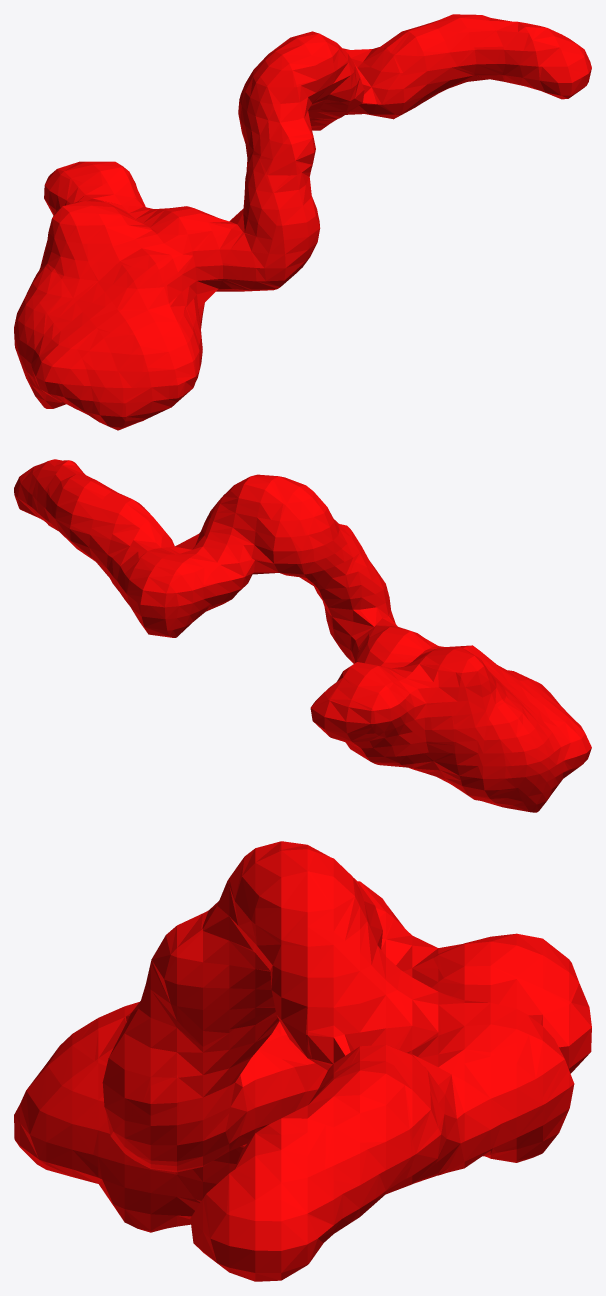
The model's file is paaB_coarse.dae.
3 views of the same model, one above another, from view 1: azimuth 30°, elevation 25°; view 2: azimuth 150°, elevation 25°; view 3: azimuth 270°, elevation 25° (orthographic). The views are drawn at different scales.
Visible parts, largest first — view 1: paaB; view 2: paaB; view 3: paaB.
Part boxes in pixels (x1,y1,x2,y2): paaB: (14,14,591,430); paaB: (14,459,591,812); paaB: (14,841,591,1281).
Size of the model in its own units: 93.84 by 46.13 by 44.13.
